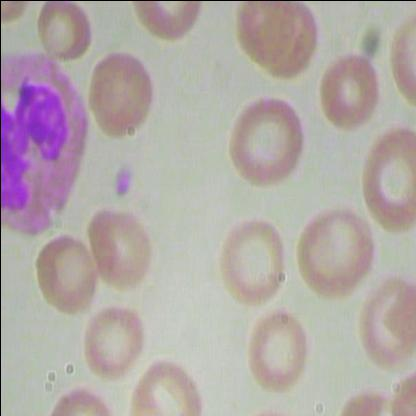Platelets: (107, 162, 133, 206)
RBC: (294, 208, 378, 302), (224, 94, 301, 188), (214, 216, 291, 310), (239, 301, 316, 395), (86, 43, 162, 137), (357, 124, 415, 238), (84, 205, 154, 297), (32, 224, 102, 316), (76, 296, 149, 381), (311, 49, 384, 134), (255, 0, 329, 77), (353, 276, 415, 362), (227, 1, 301, 66), (36, 0, 93, 67)
WBC: (0, 49, 89, 247)
